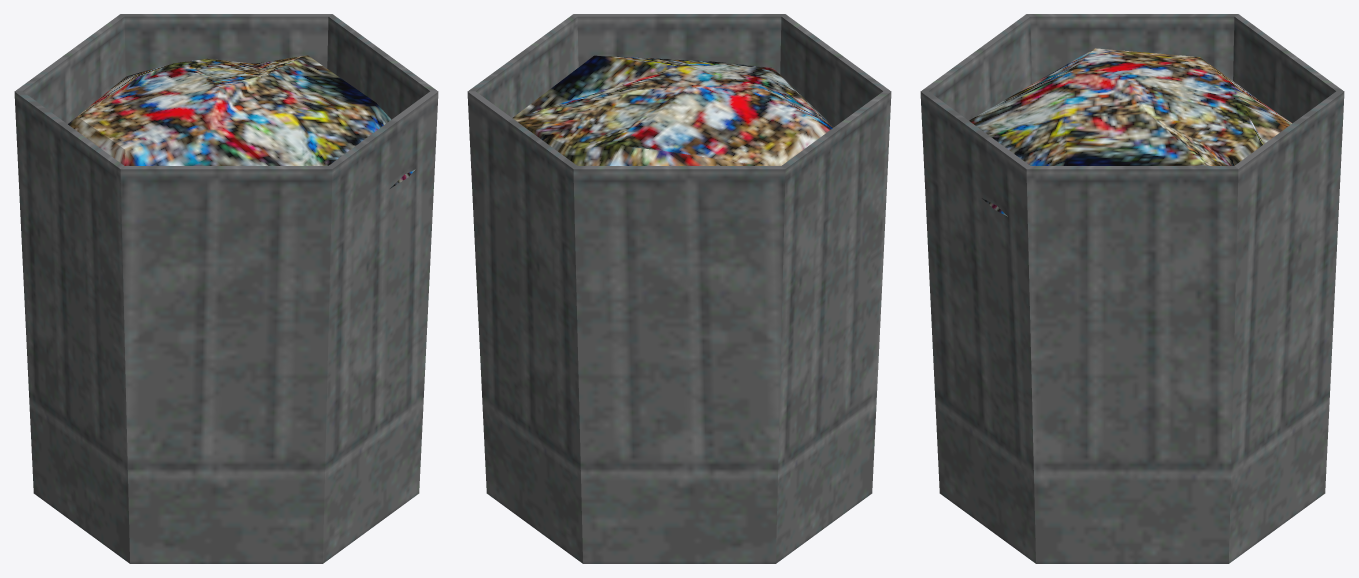
The model's file is Urban_MetaltrashcanOpenFilled_Model.fbx.
The picture shows the model from 3 angles, left to right: view 1: azimuth 30°, elevation 25°; view 2: azimuth 150°, elevation 25°; view 3: azimuth 270°, elevation 25°; orthographic projection.
Visible parts, largest first — view 1: Urban_MetaltrashcanOpenFilled_Mesh; view 2: Urban_MetaltrashcanOpenFilled_Mesh; view 3: Urban_MetaltrashcanOpenFilled_Mesh.
Boxes of the visible parts, box(x1,y1,x2,y2) form: Urban_MetaltrashcanOpenFilled_Mesh: box(14, 14, 438, 563); Urban_MetaltrashcanOpenFilled_Mesh: box(467, 14, 891, 563); Urban_MetaltrashcanOpenFilled_Mesh: box(920, 14, 1344, 563).
Bounding box in the file's own units: 0.7263 × 0.8897 × 0.8387.
